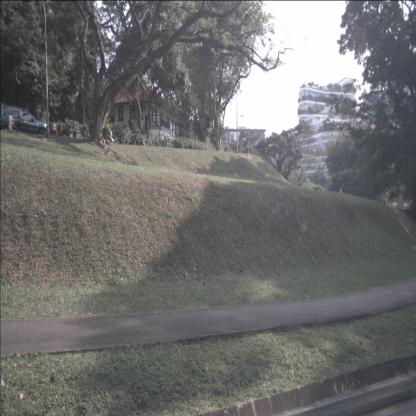vehicle-car: (0, 102, 48, 142)
